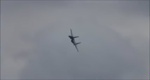maybay_muctieu: (67, 27, 81, 51)
